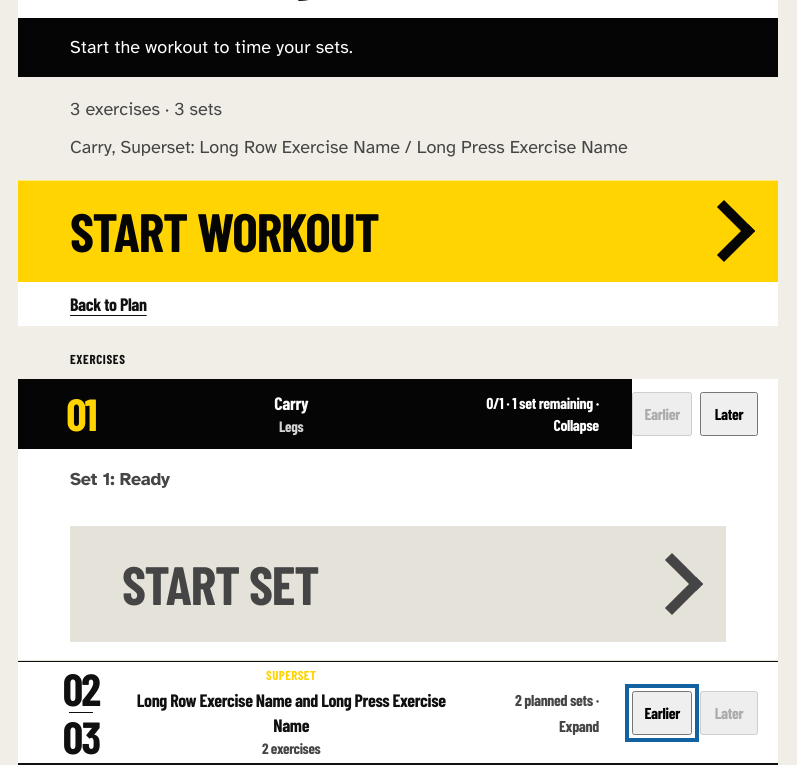
Test: keeps move focus and gives each order control its position, availability, and superset context
The width and height of the screenshot is (797, 765).
(page scrolled)
Expected: the button with aria-label "Move Carry earlier; position 1 of 2; unavailable" is disabled, [632,392,692,436]
Click the button named "Move Long Row Exercise Name with its superset earlier; position 2 of 2; available".
click(662, 713)  # box [632,691,692,735]
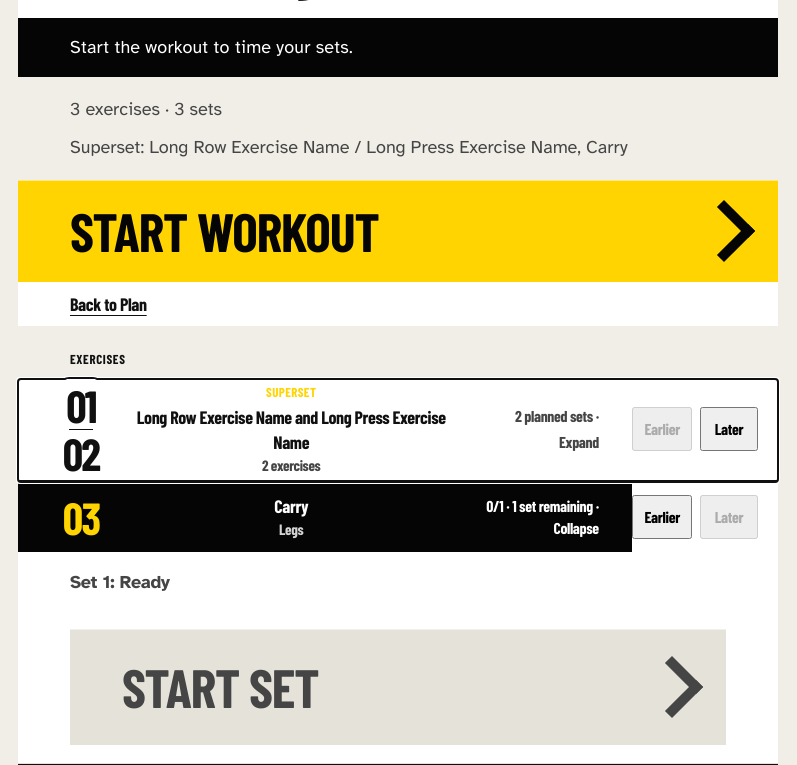
Now the button named "Move Long Row Exercise Name with its superset earlier; position 1 of 2; unavailable" is disabled, box [632,407,692,451]
